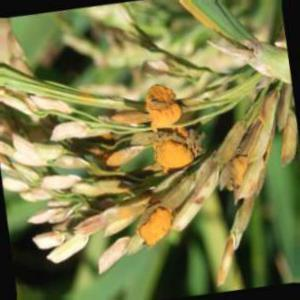False Smut: (147, 81, 194, 176), (224, 145, 257, 189), (137, 209, 173, 248)
